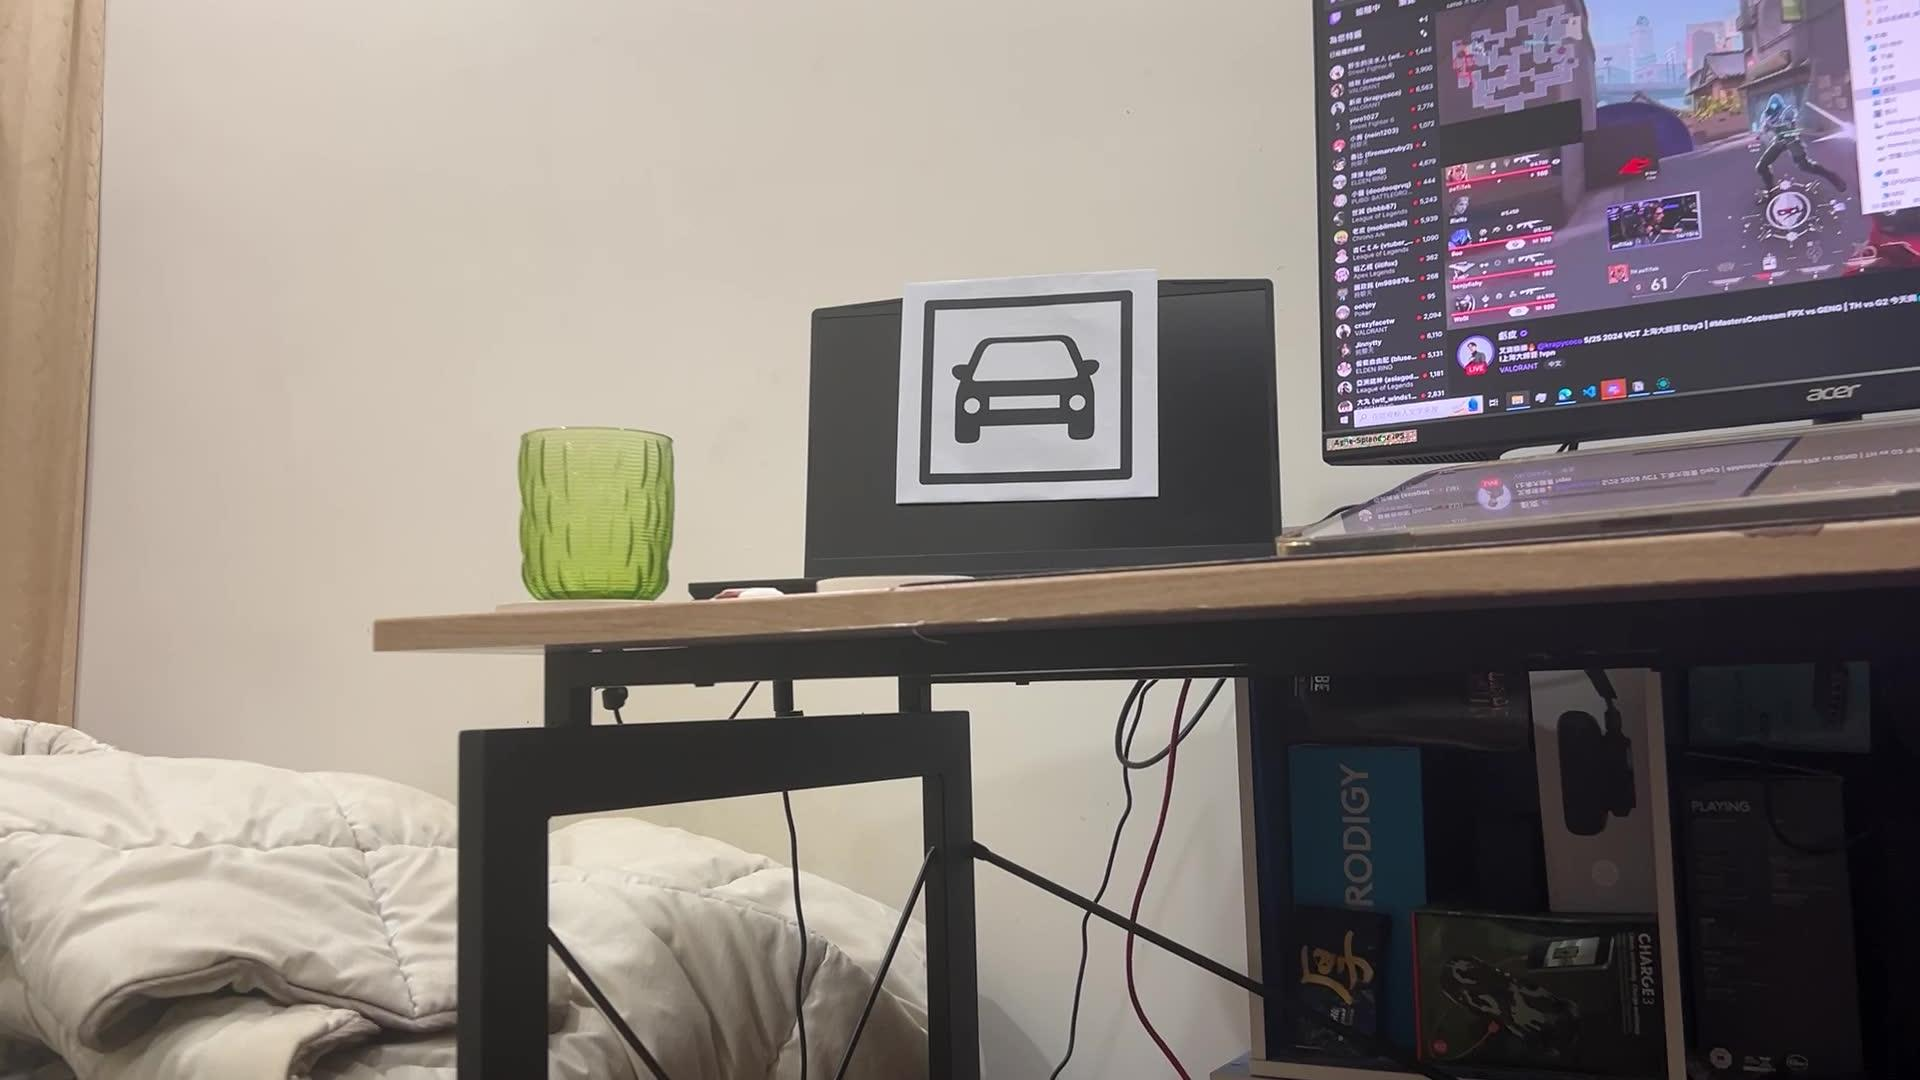car_img: (918, 289, 1133, 485)
